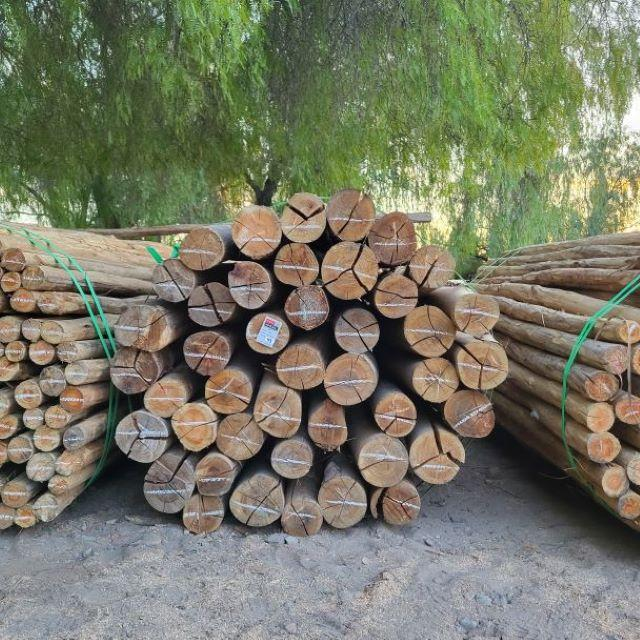package: (110, 188, 508, 535), (1, 222, 86, 530)
